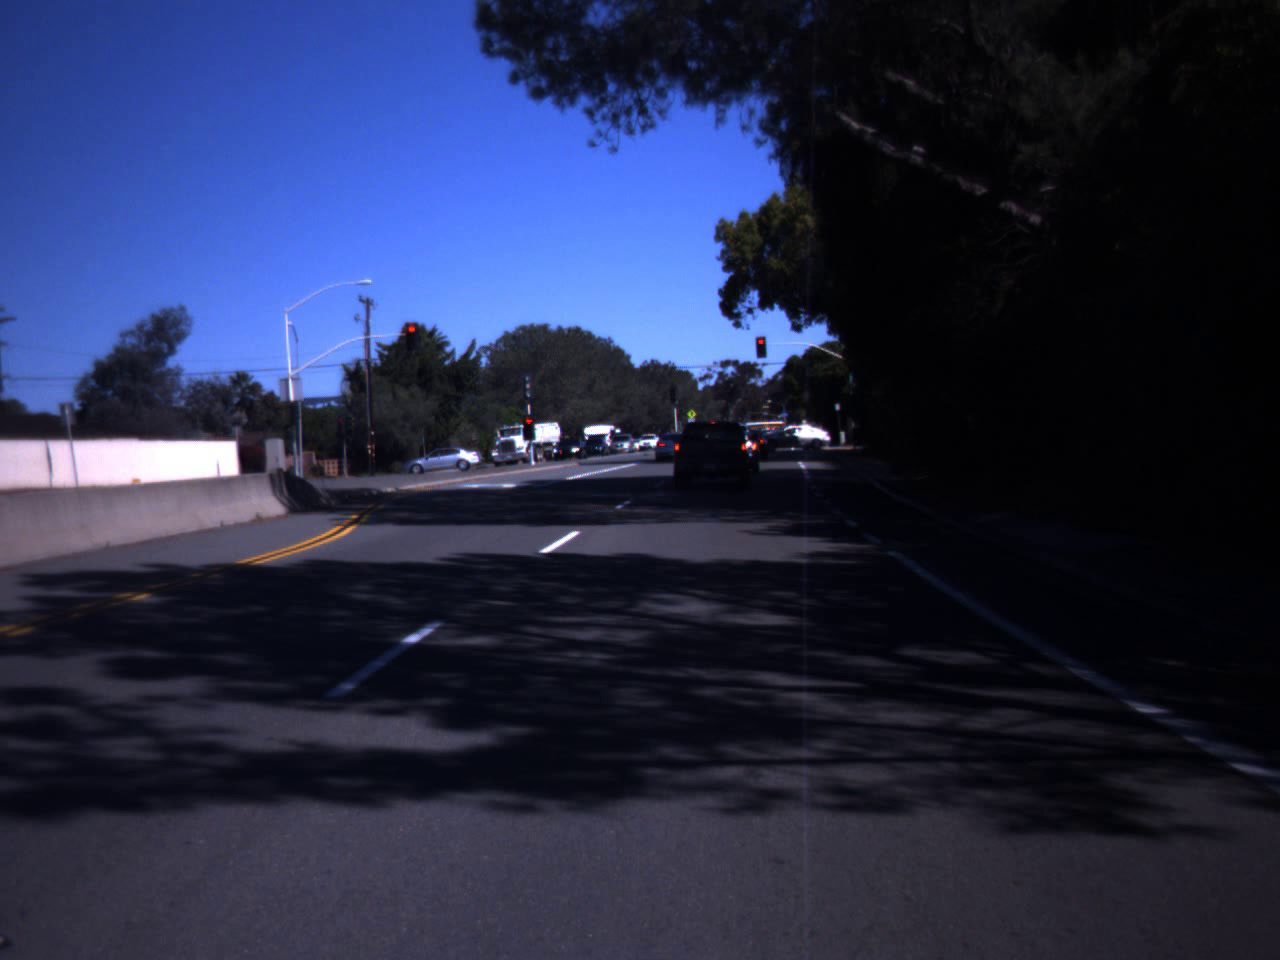stop: (404, 325, 419, 343), (522, 418, 537, 436), (755, 338, 767, 356)
